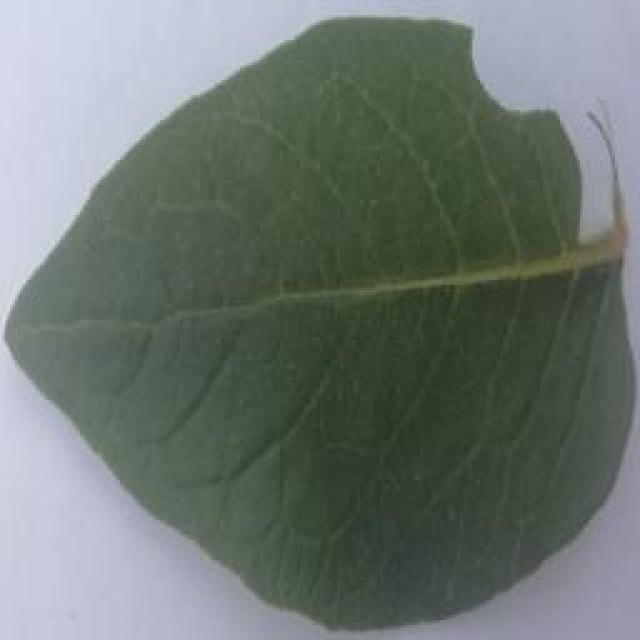Potato_Healthy: (6, 18, 624, 632)
